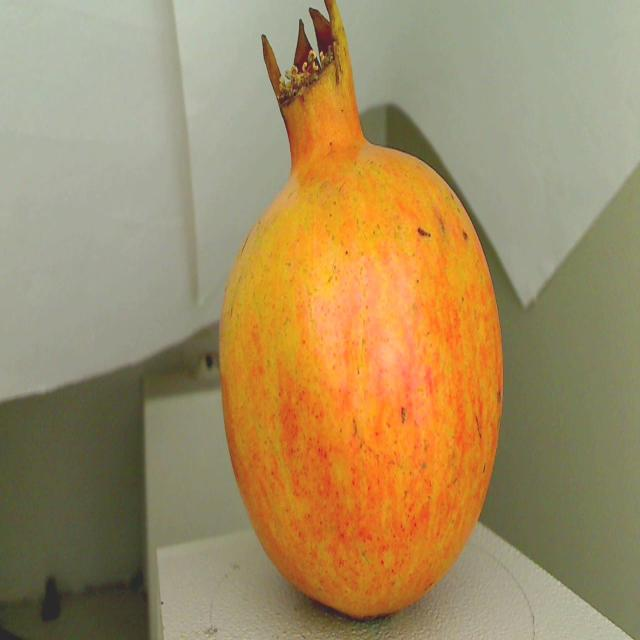pomegranate: (214, 0, 510, 640)
